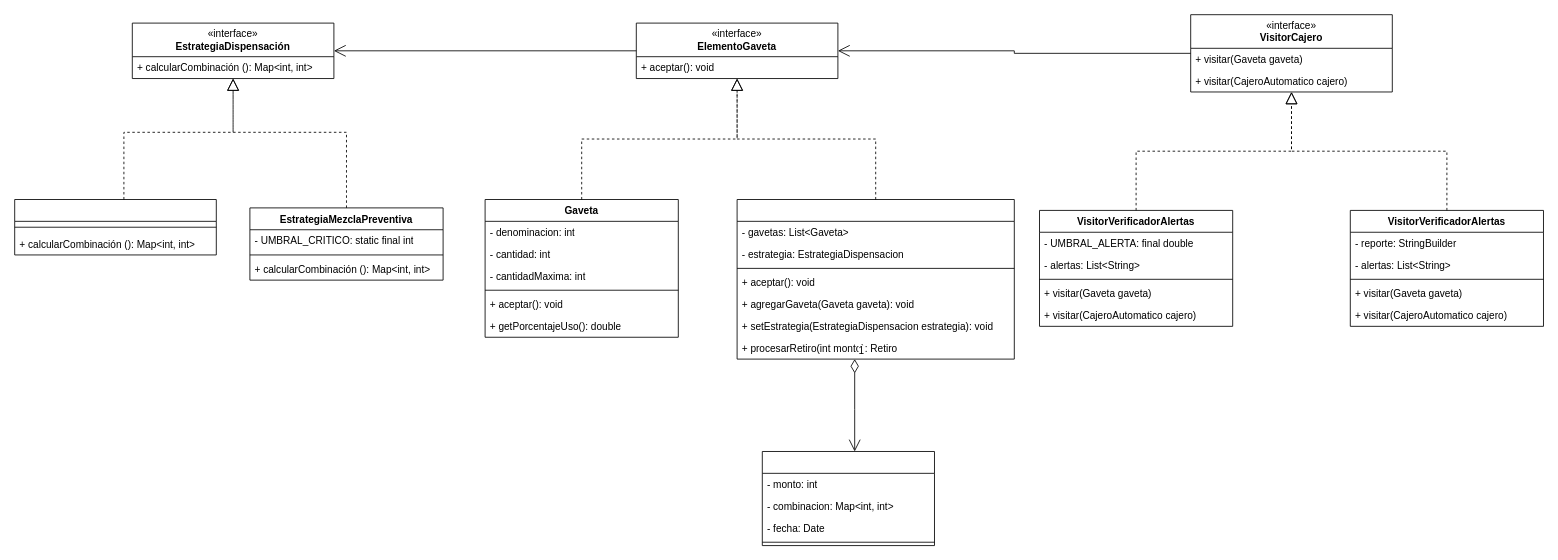
The diagram is 1558 pixels wide and 560 high, and some of its shapes have lost their labels. The box of each missing label's shape, as (x1, y1, x2, y2) in pixels:
CajeroAutomatico: (736, 199, 1014, 359)
EstrategiaMaximaDenominación: (14, 199, 216, 255)
Retiro: (761, 451, 934, 546)
